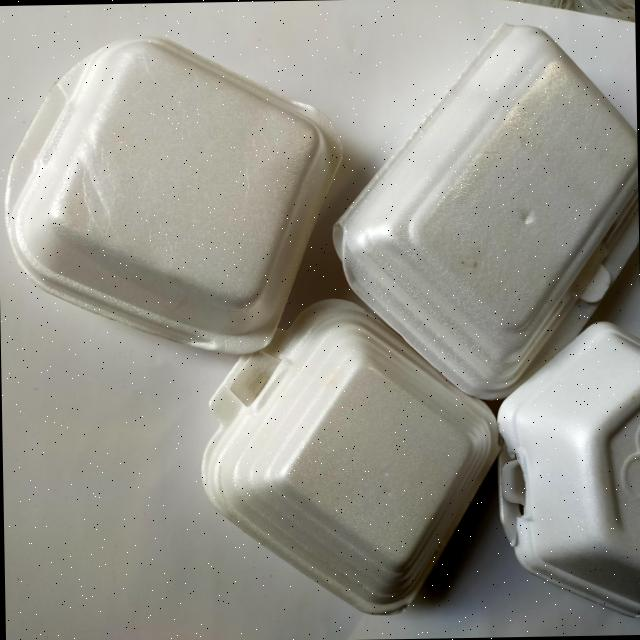styrofoam: (0, 3, 640, 638), (196, 294, 504, 618)
